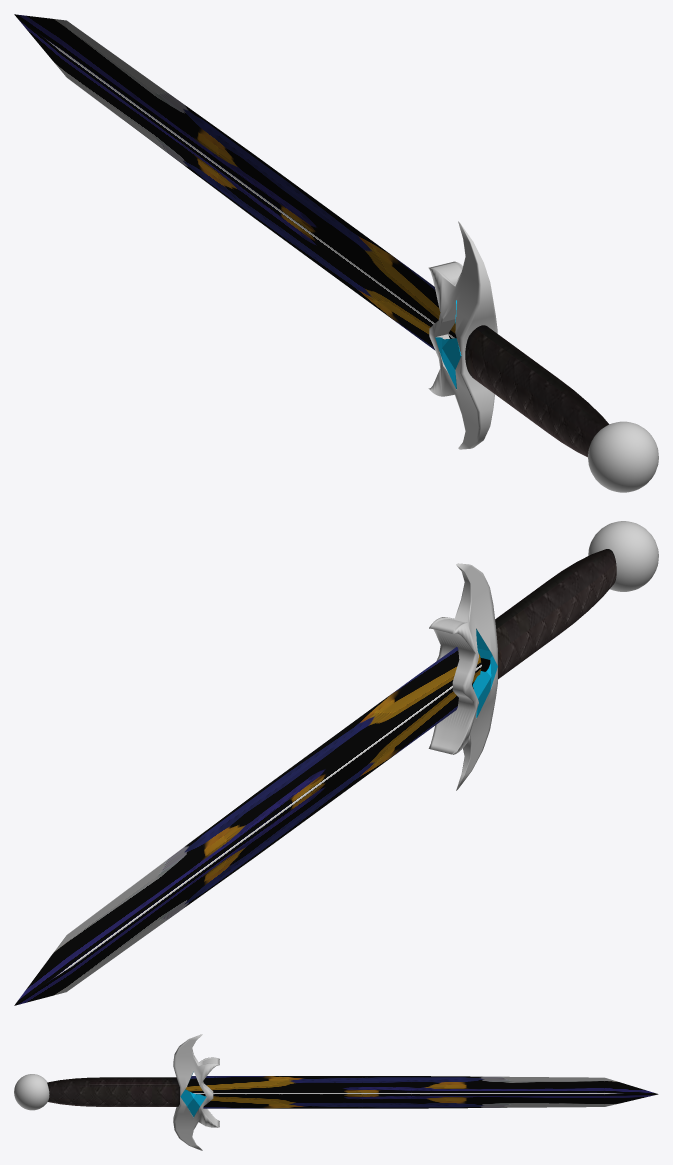
File: arbiters_blade.obj
3 renders of one model, top to bottom at view 1: azimuth 30°, elevation 25°; view 2: azimuth 150°, elevation 25°; view 3: azimuth 270°, elevation 25°, orthographic. The views are drawn at different scales.
Parts seen in each view (by area): view 1: Body, Handle; view 2: Body, Handle; view 3: Body, Handle.
Boxes of the visible parts, x1,y1,x2,y2 form: Body: (14, 14, 658, 492); Handle: (465, 325, 609, 457); Body: (14, 521, 658, 1005); Handle: (480, 549, 616, 679); Body: (14, 1034, 658, 1150); Handle: (47, 1077, 179, 1106).
Size of the model in its own units: 0.1452 by 0.5103 by 2.56.
